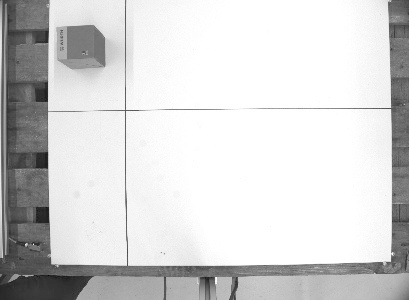b7: (53, 21, 108, 71)
